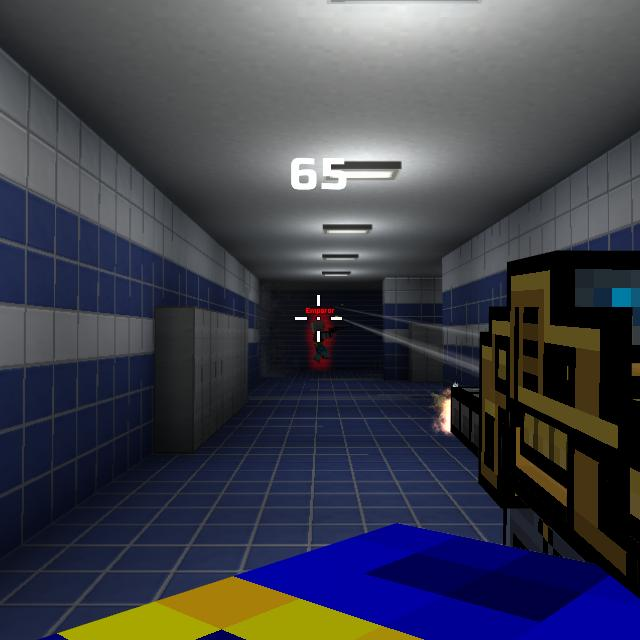Enemy: (311, 320, 333, 363)
